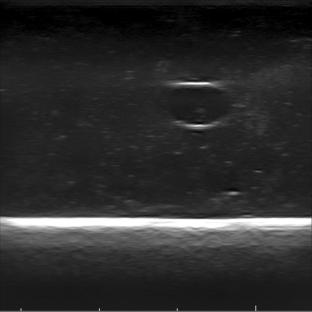vessel: (165, 81, 234, 128)
